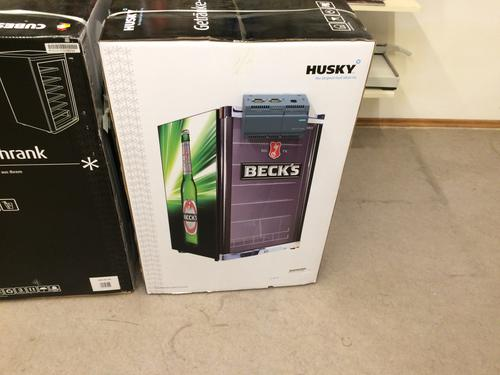iot2000: (241, 93, 310, 139)
